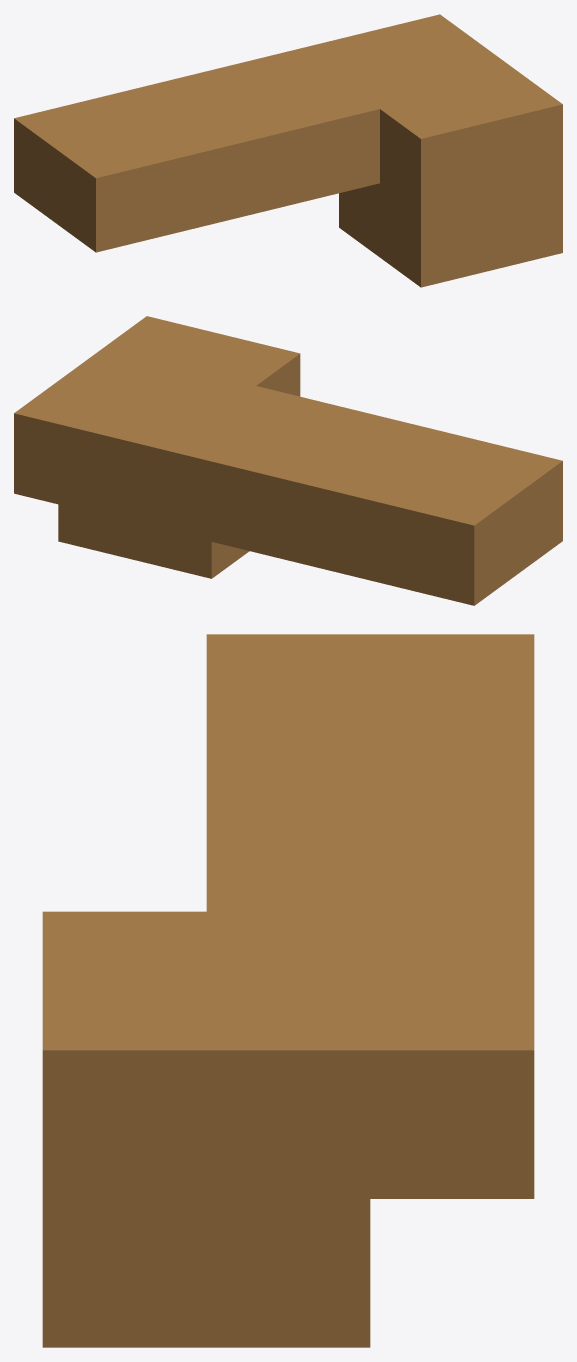
The model's file is pharmacy_key.glb.
3 views of the same model, one above another, from view 1: azimuth 30°, elevation 25°; view 2: azimuth 150°, elevation 25°; view 3: azimuth 270°, elevation 25° (orthographic). The views are drawn at different scales.
Parts seen in each view (by area): view 1: pharmacy_key:key; view 2: pharmacy_key:key; view 3: pharmacy_key:key.
Part boxes in pixels (x1=…): pharmacy_key:key: x1=14, y1=14, x2=562, y2=287; pharmacy_key:key: x1=14, y1=316, x2=562, y2=605; pharmacy_key:key: x1=42, y1=634, x2=534, y2=1347.
Size of the model in its own units: 0.06 by 0.02 by 0.03.
